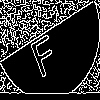F: (25, 25, 61, 79)
